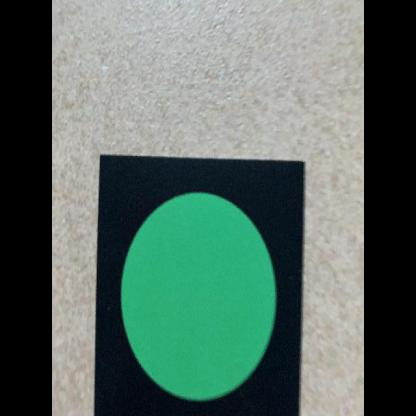go: (93, 154, 307, 415)
